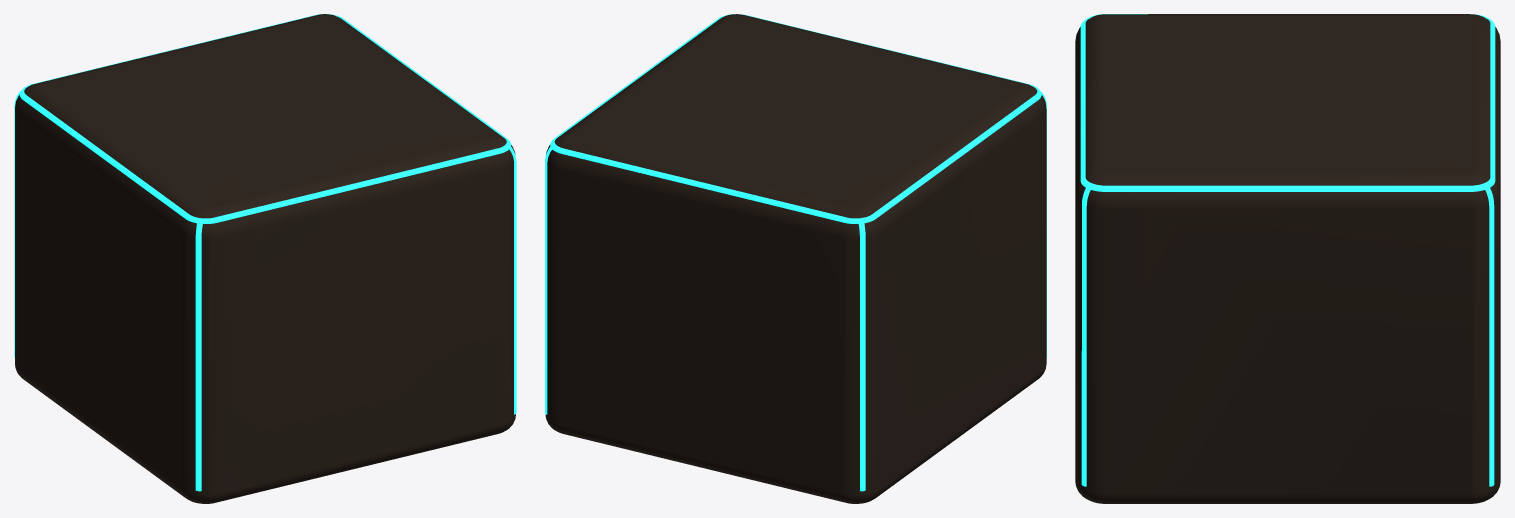
The model's file is SM_NeonBlock_L1.glb.
3 renders of one model, left to right at view 1: azimuth 30°, elevation 25°; view 2: azimuth 150°, elevation 25°; view 3: azimuth 270°, elevation 25°, orthographic. The views are drawn at different scales.
Parts seen in each view (by area): view 1: SM_NeonBlock; view 2: SM_NeonBlock; view 3: SM_NeonBlock.
Boxes of the visible parts, box(x1,y1,x2,y2) form: SM_NeonBlock: box(14, 14, 516, 503); SM_NeonBlock: box(545, 14, 1046, 503); SM_NeonBlock: box(1075, 14, 1500, 503).
Size of the model in its own units: 1.9 by 1.6 by 1.9.
